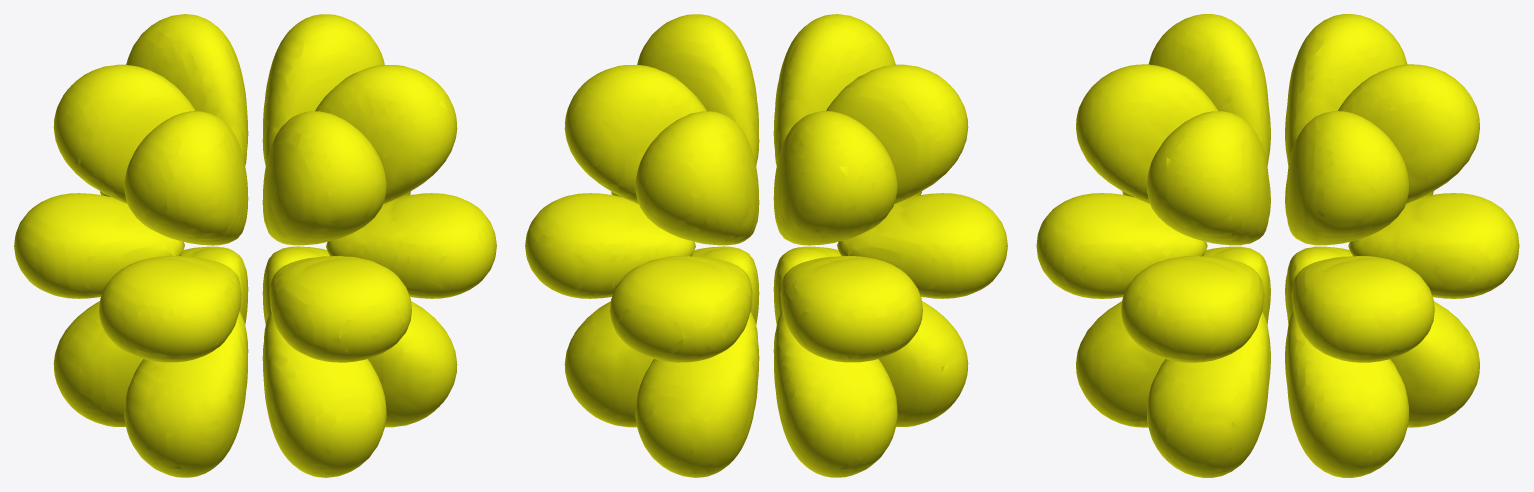
Rendered from orb_n=6_ l=5 _m=-3.fbx.
3 renders of one model, left to right at view 1: azimuth 30°, elevation 25°; view 2: azimuth 150°, elevation 25°; view 3: azimuth 270°, elevation 25°, orthographic.
Visible parts, largest first — view 1: orb_n=6_ l=5 _m=-3; view 2: orb_n=6_ l=5 _m=-3; view 3: orb_n=6_ l=5 _m=-3.
Boxes of the visible parts, box(x1,y1,x2,y2) form: orb_n=6_ l=5 _m=-3: box(14, 14, 496, 477); orb_n=6_ l=5 _m=-3: box(525, 14, 1007, 477); orb_n=6_ l=5 _m=-3: box(1036, 14, 1519, 477).
Size of the model in its own units: 11371 by 10132 by 12499.
